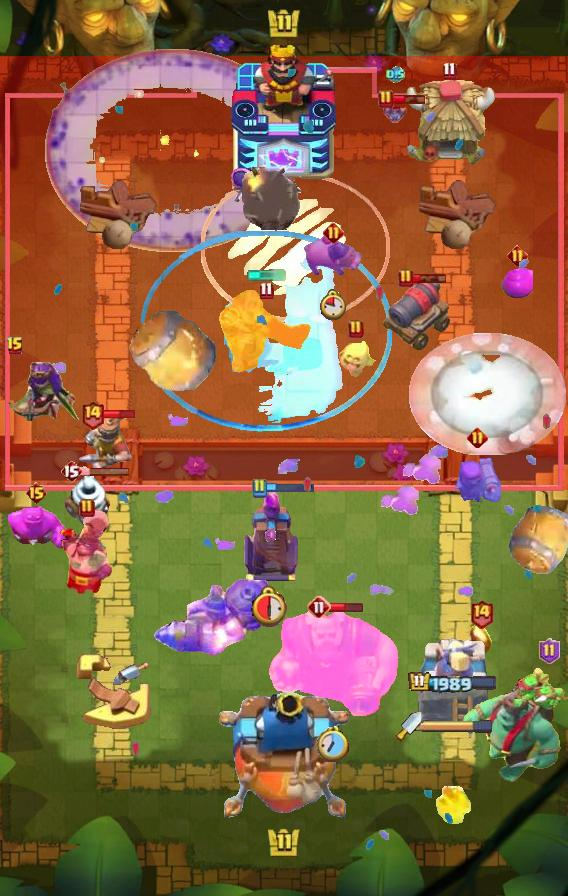baby-dragon: (242, 167, 301, 229)
bar: (416, 637, 490, 731)
barbarian-barrel: (380, 99, 410, 125)
barbarian-hut: (0, 359, 84, 429)
bat-evolution: (335, 340, 377, 378)
bomber: (468, 621, 494, 657)
dirt: (129, 309, 219, 397), (508, 500, 568, 576)
earthquake: (75, 411, 139, 473)
electro-spirit: (386, 65, 406, 82), (265, 528, 277, 543)
elixir: (251, 584, 291, 627), (317, 726, 349, 762), (320, 289, 347, 320)
emote: (264, 482, 316, 495), (79, 467, 131, 478), (391, 93, 427, 105), (328, 601, 364, 613), (103, 408, 138, 420), (412, 273, 447, 284)
executioner: (304, 234, 362, 278)
goblin: (228, 166, 259, 206)
goblin-drill: (62, 471, 112, 527)
ice-spirit: (245, 269, 287, 281)
ice-spirit-evolution-symbol: (241, 491, 301, 583)
ice-wizard: (202, 174, 390, 323)
inferno-tower: (218, 290, 314, 374)
king-tower: (219, 692, 349, 826), (230, 41, 338, 181)
king-tower-bar: (422, 719, 494, 733)
lava-hound: (462, 666, 568, 784)
lightning: (262, 607, 406, 721)
miner: (501, 268, 533, 298)
monk: (59, 508, 115, 596)
pad_0: (139, 231, 393, 433)
prince: (402, 78, 496, 168)
rocket: (45, 48, 301, 252)
royal-giant-evolution: (382, 278, 452, 352)
selected: (408, 671, 498, 695)
text: (80, 399, 105, 430), (470, 599, 495, 630), (307, 595, 331, 619), (24, 481, 47, 505), (540, 638, 561, 664), (60, 459, 82, 483), (323, 222, 344, 243), (508, 245, 529, 266), (467, 427, 488, 448), (6, 336, 24, 356), (378, 89, 394, 109), (398, 268, 414, 288), (348, 319, 364, 339), (251, 478, 267, 498), (79, 498, 95, 518), (442, 61, 457, 79), (259, 281, 273, 300)
tombstone: (453, 452, 501, 508)
tornado: (5, 505, 67, 551)
valkyrie: (430, 786, 476, 828)
wall-breaker: (408, 333, 566, 455)
wizard: (153, 578, 277, 656)
